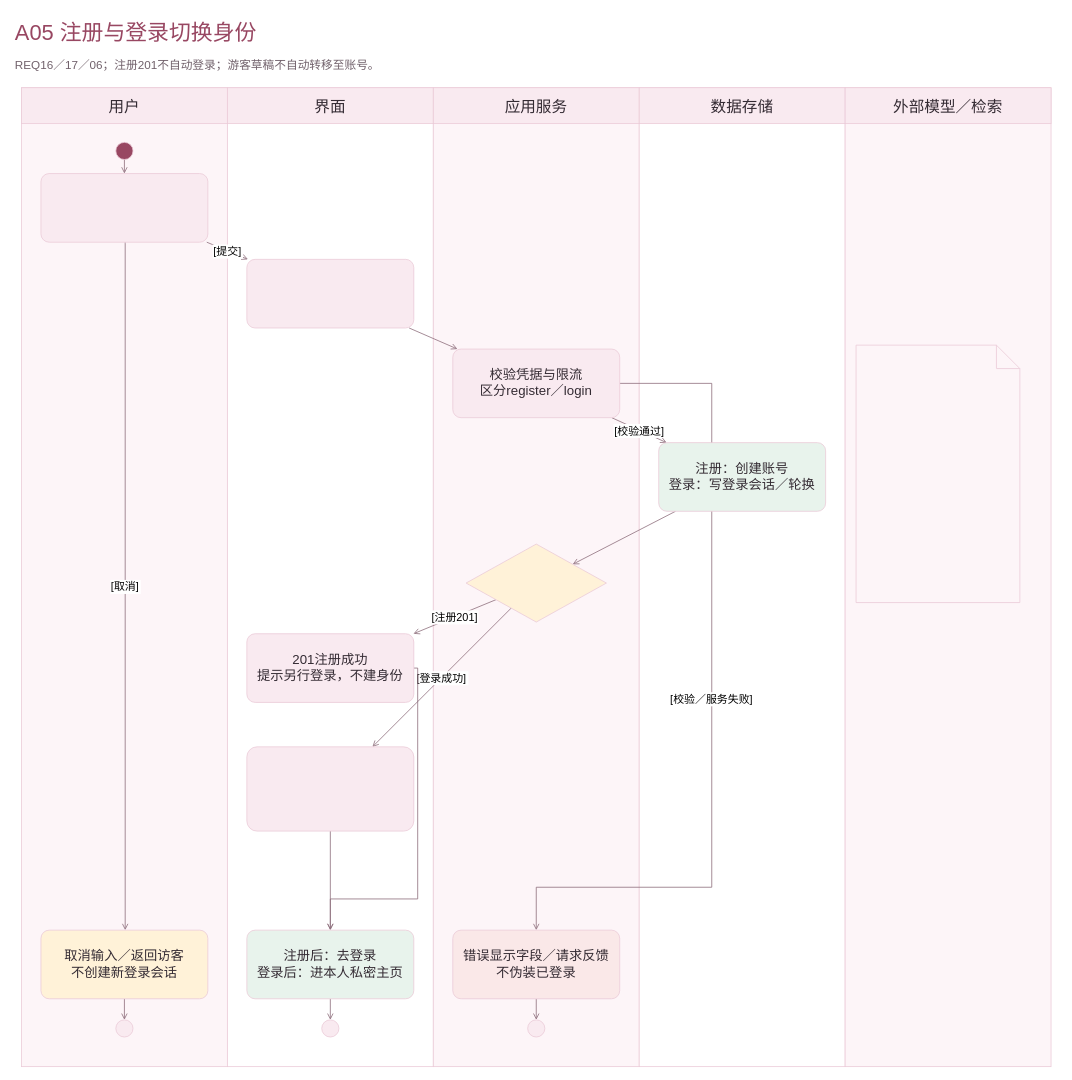
Image size: 1072x1080. Some labels were removed from this diagram. Here are the shapes that lost their labels. From the top down, the centre of each, then its label:
At point 124,207: "输入注册或登录凭据 新密码12～128码点".
At point 330,293: "获取auth/context 提交附X-CSRF-Token".
At point 937,473: "外部服务无调用。 登录会话持久保存；业务会话正文默认内存。 注册成功与登录成功是不同界面状态。".
At point 535,582: "成功的操作？".
At point 330,788: "登录成功：重建当前身份 清旧临时正文与任务 不自动认领游客内容".
